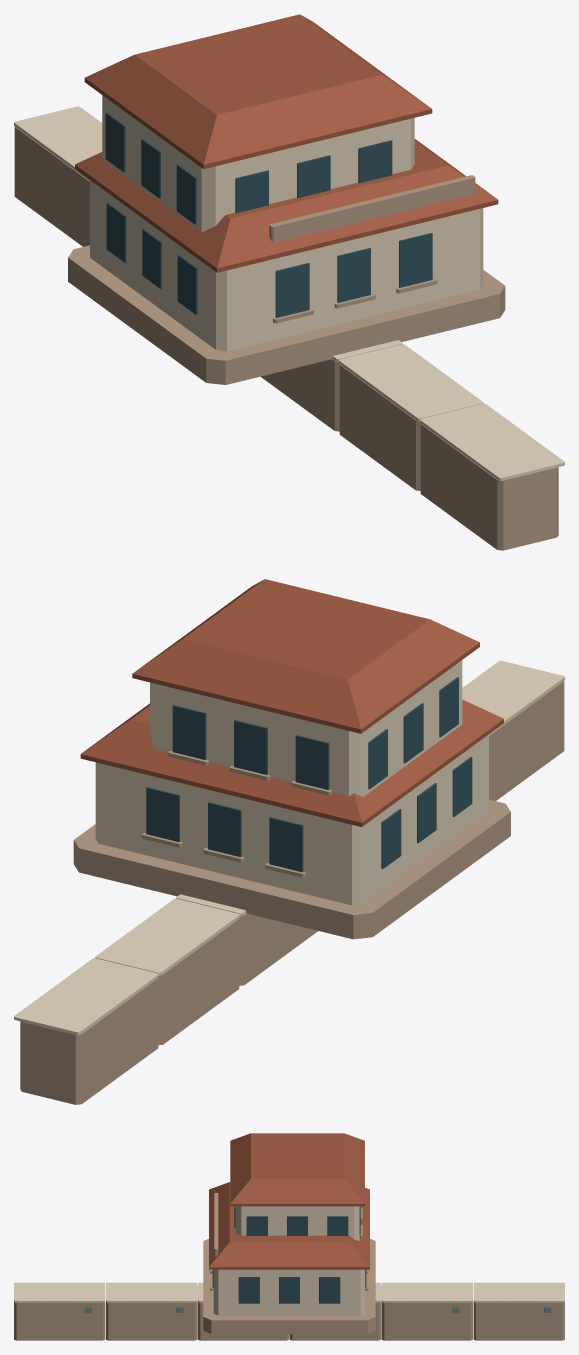
File: props.glb
3 views of the same model, one above another, from view 1: azimuth 30°, elevation 25°; view 2: azimuth 150°, elevation 25°; view 3: azimuth 270°, elevation 25° (orthographic). The views are drawn at different scales.
Visible parts, largest first — view 1: Hipped roof.001, Lower stucco, Terrace plinth, Hipped roof, Upper stucco, Bay wall, Bay wall.001, Limestone coping, Limestone coping.001, Bay wall.005, Terrace parapet, Limestone coping.005 (+13 smaller); view 2: Hipped roof.001, Lower stucco, Terrace plinth, Upper stucco, Hipped roof, Bay wall.005, Bay wall.004, Limestone coping.005, Limestone coping.004, Bay wall, Limestone coping, Bay wall.003 (+12 smaller); view 3: Hipped roof.001, Hipped roof, Lower stucco, Terrace plinth, Bay wall.001, Bay wall.004, Bay wall, Bay wall.005, Upper stucco, Limestone coping, Limestone coping.001, Limestone coping.004 (+10 smaller).
Boxes of the visible parts, box(x1,y1,x2,y2) form: Hipped roof.001: box(84, 14, 432, 168); Lower stucco: box(90, 180, 483, 350); Terrace plinth: box(68, 245, 505, 384); Hipped roof: box(75, 139, 498, 272); Upper stucco: box(102, 95, 414, 232); Bay wall: box(420, 424, 558, 550); Bay wall.001: box(339, 364, 420, 490); Limestone coping: box(420, 403, 564, 480); Limestone coping.001: box(339, 344, 483, 421); Bay wall.005: box(14, 126, 89, 246); Terrace parapet: box(269, 175, 475, 242); Limestone coping.005: box(14, 106, 102, 180); Hipped roof.001: box(132, 579, 479, 733); Lower stucco: box(95, 734, 488, 905); Terrace plinth: box(73, 799, 510, 939); Upper stucco: box(150, 660, 462, 796); Hipped roof: box(80, 699, 503, 826); Bay wall.005: box(20, 978, 158, 1104); Bay wall.004: box(158, 919, 239, 1045); Limestone coping.005: box(14, 958, 158, 1035); Limestone coping.004: box(95, 898, 239, 975); Bay wall: box(489, 681, 564, 800); Limestone coping: box(462, 660, 564, 735); Bay wall.003: box(239, 913, 317, 985); Hipped roof.001: box(230, 1133, 364, 1206); Hipped roof: box(209, 1182, 369, 1269); Lower stucco: box(213, 1269, 365, 1315); Terrace plinth: box(203, 1239, 375, 1333); Bay wall.001: box(106, 1302, 197, 1340); Bay wall.004: box(381, 1302, 472, 1340); Bay wall: box(14, 1302, 105, 1340); Bay wall.005: box(473, 1302, 564, 1340); Upper stucco: box(235, 1206, 359, 1241); Limestone coping: box(14, 1282, 105, 1302); Limestone coping.001: box(106, 1282, 197, 1302); Limestone coping.004: box(381, 1282, 472, 1302).
Size of the model in its own units: 8.5 by 8.18 by 23.98.
